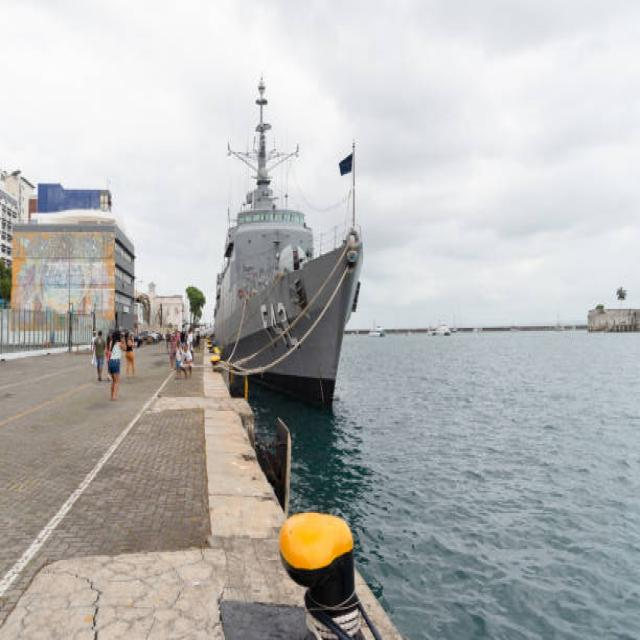Military: (213, 82, 363, 409)
